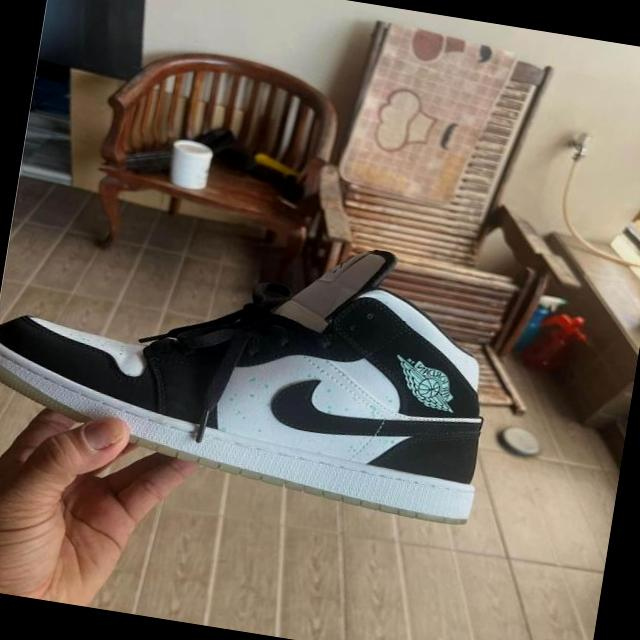nike_fake_jordan: (0, 189, 517, 525)
